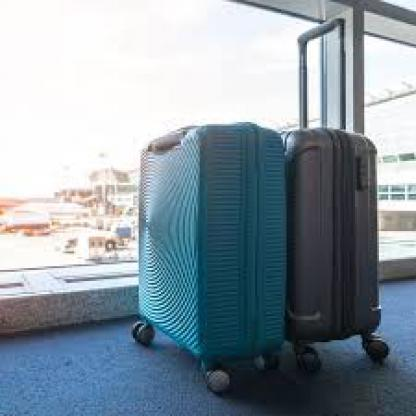maleta: (120, 124, 300, 396), (264, 118, 397, 378)
